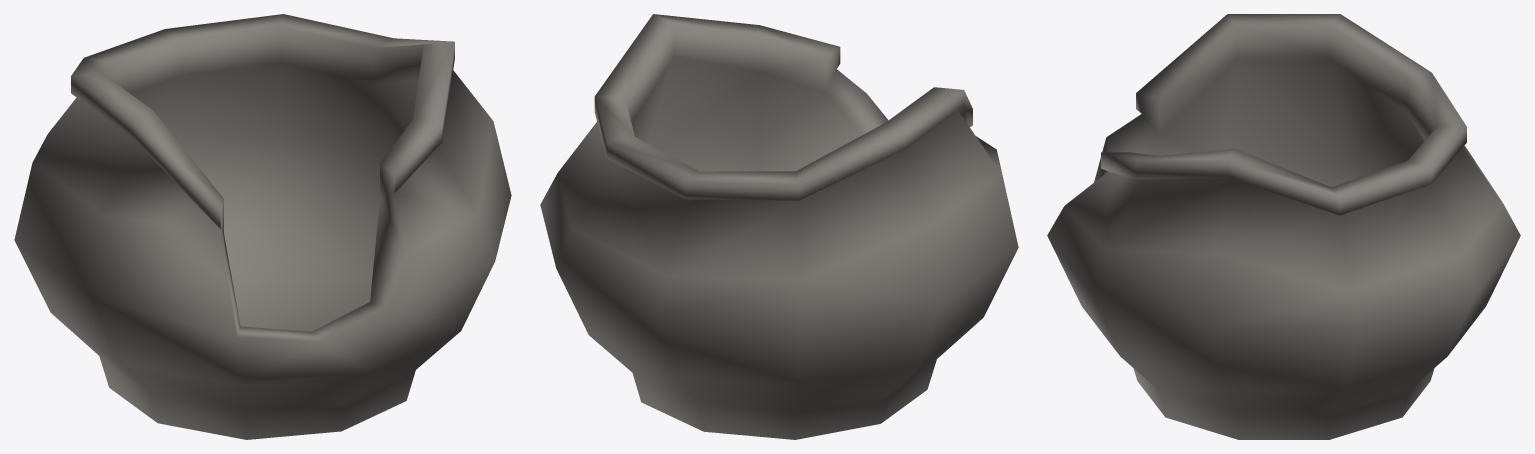
Rendered from rpgpp_av_pot_01a.gltf.
3 renders of one model, left to right at view 1: azimuth 30°, elevation 25°; view 2: azimuth 150°, elevation 25°; view 3: azimuth 270°, elevation 25°, orthographic. The views are drawn at different scales.
Parts seen in each view (by area): view 1: rpgpp_av_pot_01a; view 2: rpgpp_av_pot_01a; view 3: rpgpp_av_pot_01a.
Part boxes in pixels (left/top/right/bottom): rpgpp_av_pot_01a: left=14, top=14, right=511, bottom=439; rpgpp_av_pot_01a: left=540, top=14, right=1018, bottom=439; rpgpp_av_pot_01a: left=1047, top=14, right=1520, bottom=439.
Size of the model in its own units: 0.00551 by 0.00396 by 0.00579.
Materials: 1 (1 with a texture image).
